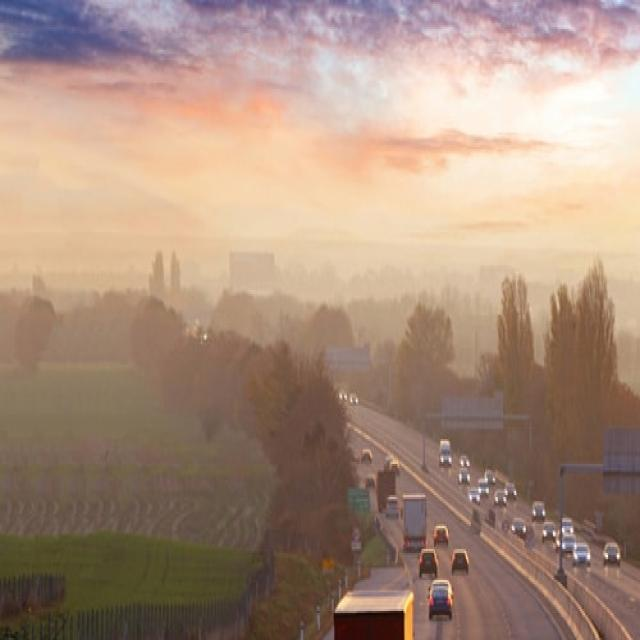car: (427, 574, 458, 629), (419, 548, 438, 578), (451, 548, 470, 575), (603, 542, 621, 568), (572, 543, 591, 567)
van: (330, 584, 421, 640), (403, 493, 426, 554)
